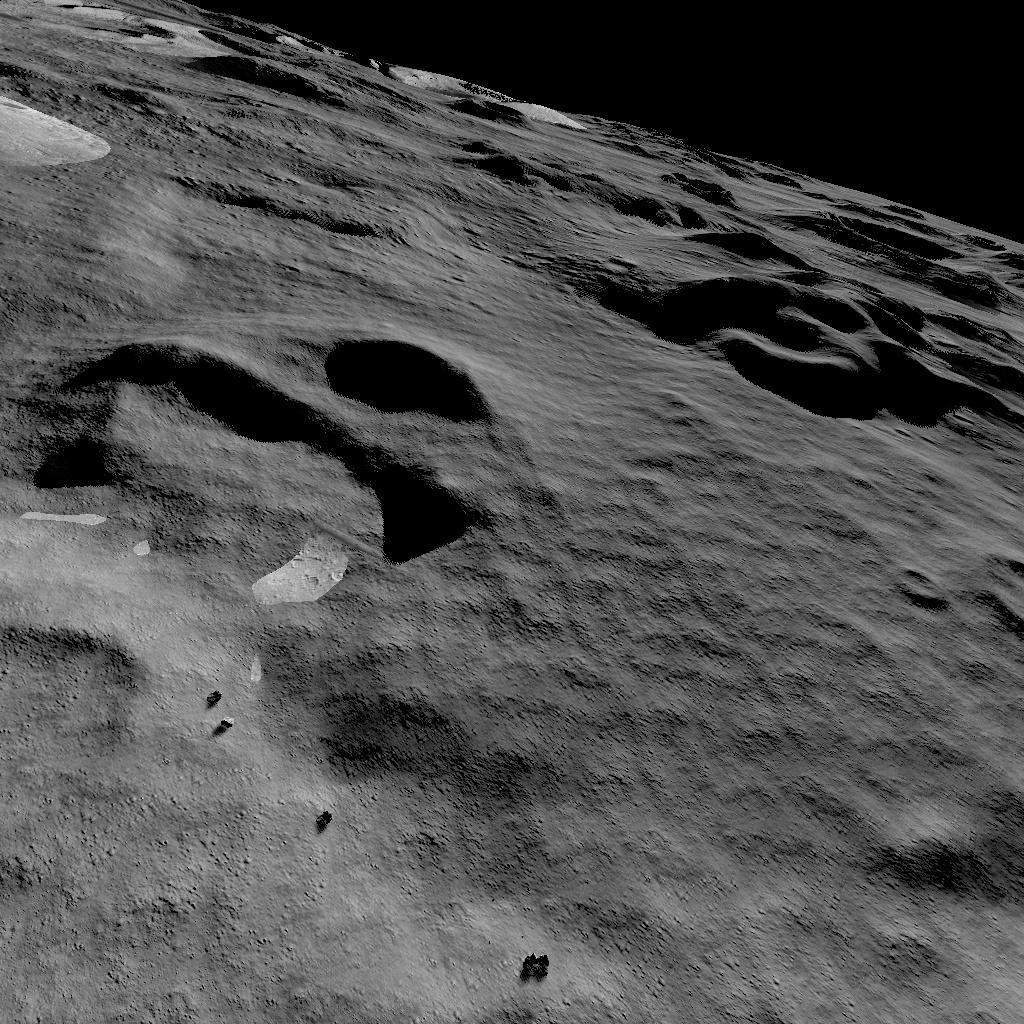Boulders: (0, 68, 135, 186)
Crater: (591, 130, 1024, 434), (43, 296, 504, 576), (0, 600, 171, 858), (891, 530, 1024, 625)
Plan surface: (571, 454, 880, 1024), (0, 874, 495, 1024)
